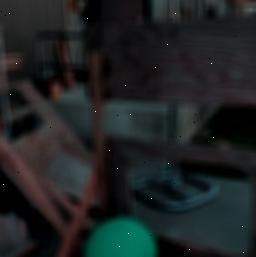algae: (82, 215, 157, 257)
